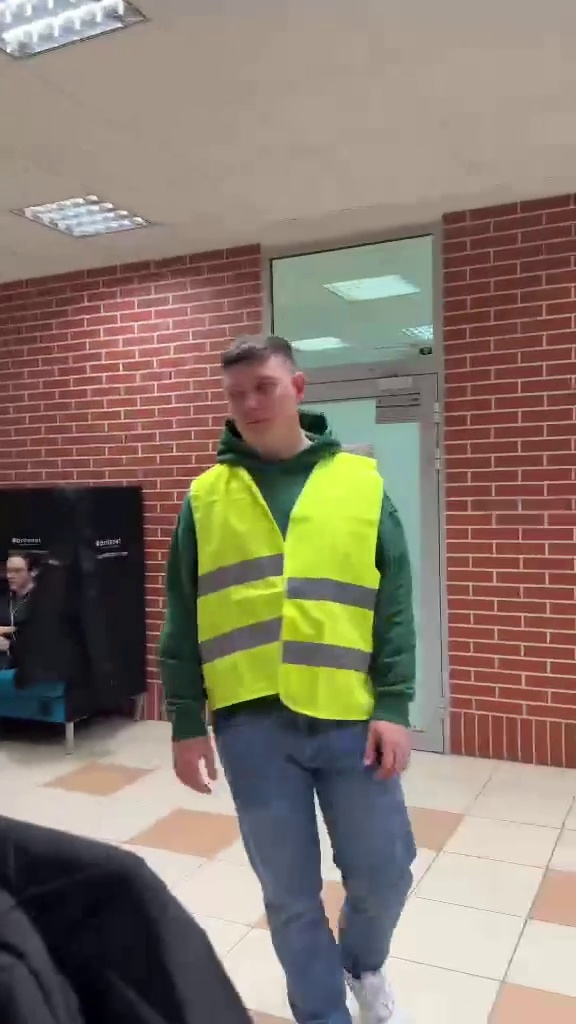vest: (164, 329, 421, 1021)
